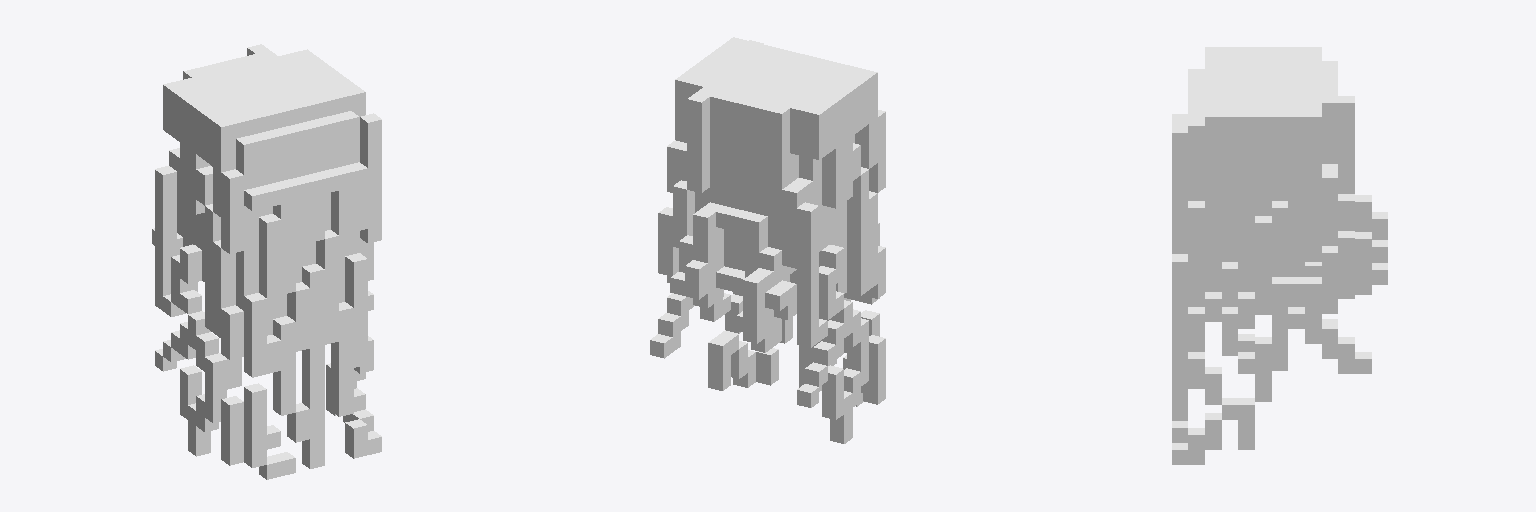
File: mob1_head2.obj
3 views of the same model, side by side, from view 1: azimuth 30°, elevation 25°; view 2: azimuth 150°, elevation 25°; view 3: azimuth 270°, elevation 25° (orthographic).
Parts seen in each view (by area): view 1: object 1; view 2: object 1; view 3: object 1.
Boxes of the visible parts, <box> form: object 1: <box>152,44,381,479</box>; object 1: <box>650,37,885,443</box>; object 1: <box>1172,47,1387,464</box>.
Bounding box in the file's own units: 1 × 2.3 × 1.3.